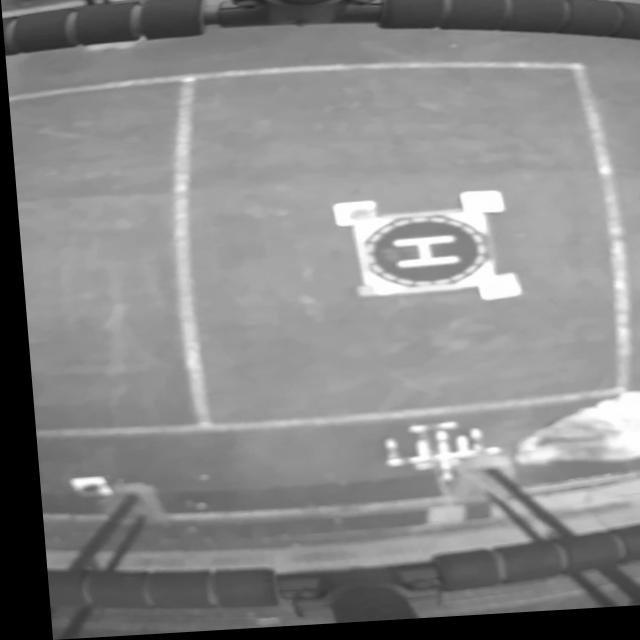Helipad: (386, 241, 456, 273)
